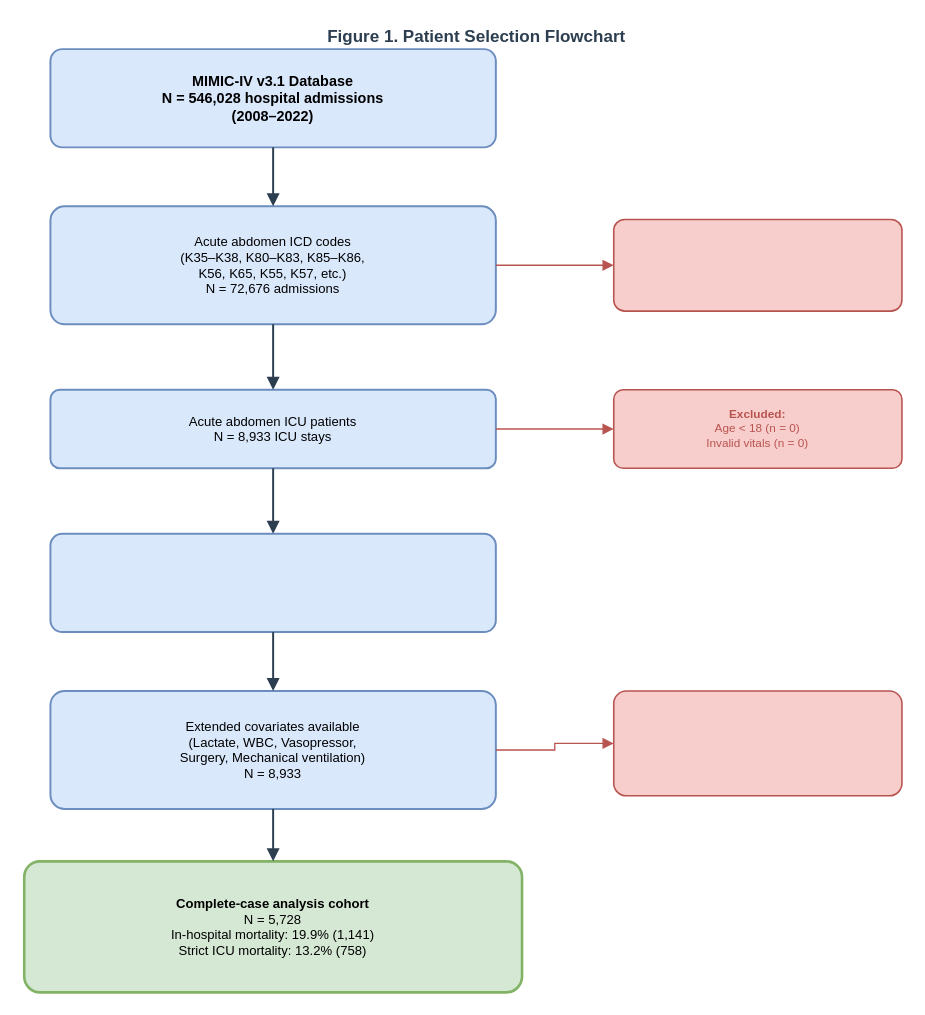
Image size: 925x1015. Some labels were removed from this diagram. The shapes that lost their labels are listed below. From the top down, each one's centre as x and y in pixels, then its label:
the point at 757,264: Excluded: Non-ICU admissions (n = 63,743)
the point at 272,582: Complete vital signs data (HR, SBP, DBP, MAP in 24h) N = 8,933
the point at 757,743: Excluded: Missing SI derivatives or extended covariates (n = 3,205)
